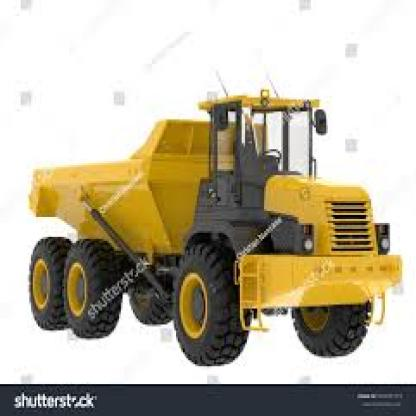dump_truck: (17, 72, 399, 364)
